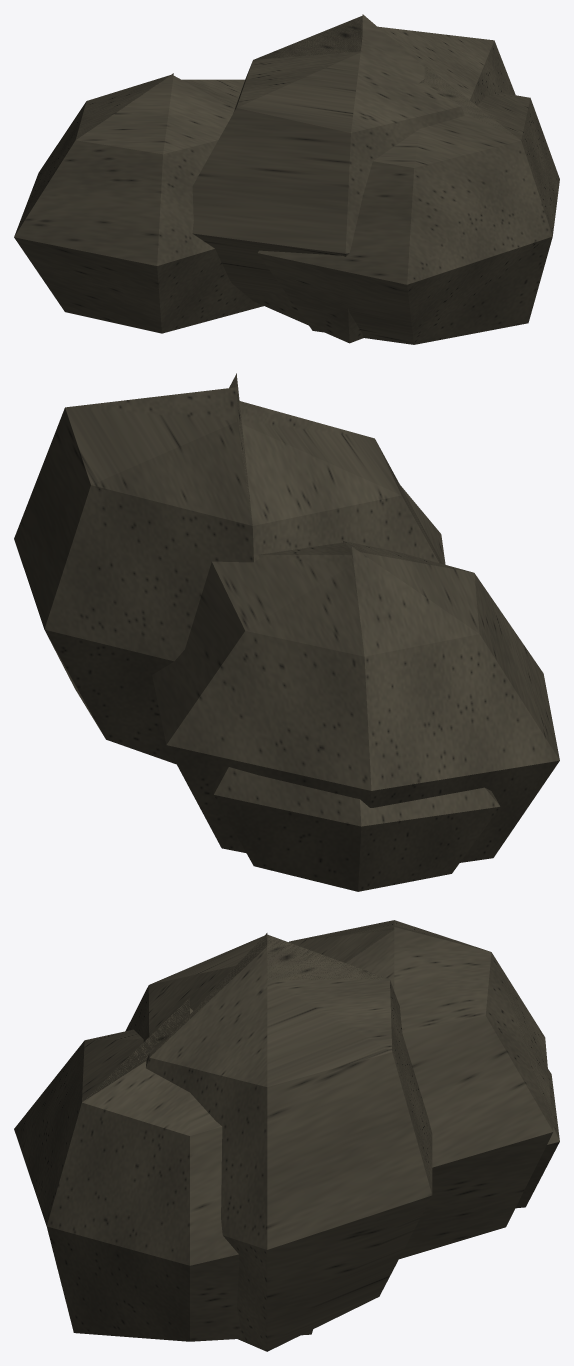
The model's file is PROP-76445B97A926_lod2.glb.
3 views of the same model, one above another, from view 1: azimuth 30°, elevation 25°; view 2: azimuth 150°, elevation 25°; view 3: azimuth 270°, elevation 25° (orthographic). The views are drawn at different scales.
Parts seen in each view (by area): view 1: rock.006; view 2: rock.006; view 3: rock.006.
Boxes of the visible parts, <box> form: rock.006: <box>14,14,559,344</box>; rock.006: <box>14,373,559,891</box>; rock.006: <box>14,920,559,1351</box>.
Size of the model in its own units: 1.89 by 1.06 by 1.51.
1 material, 1 textured.
